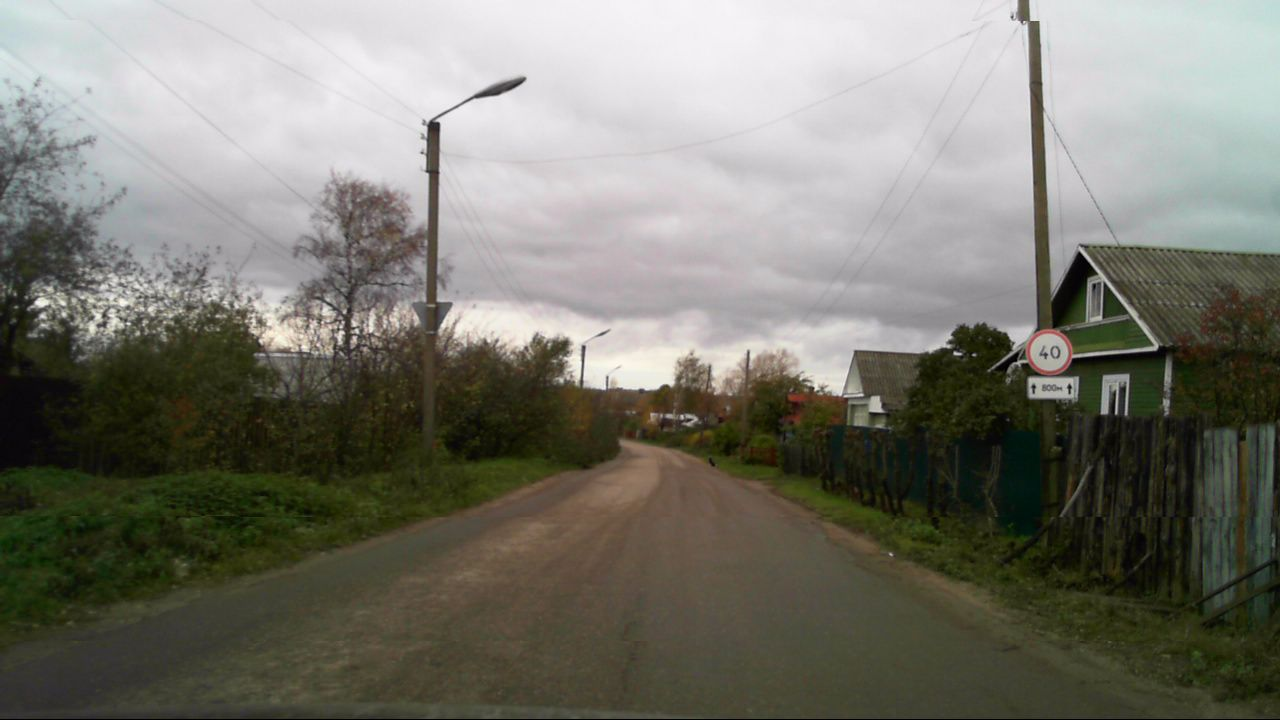speed_warning_40: (1025, 329, 1072, 376)
